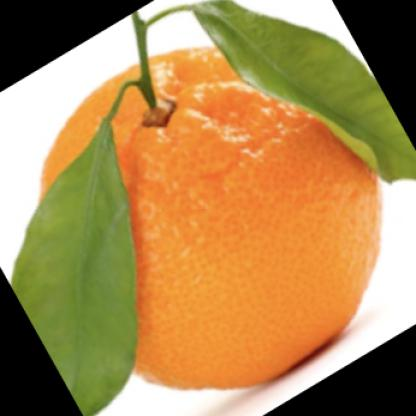orange: (23, 19, 383, 394)
